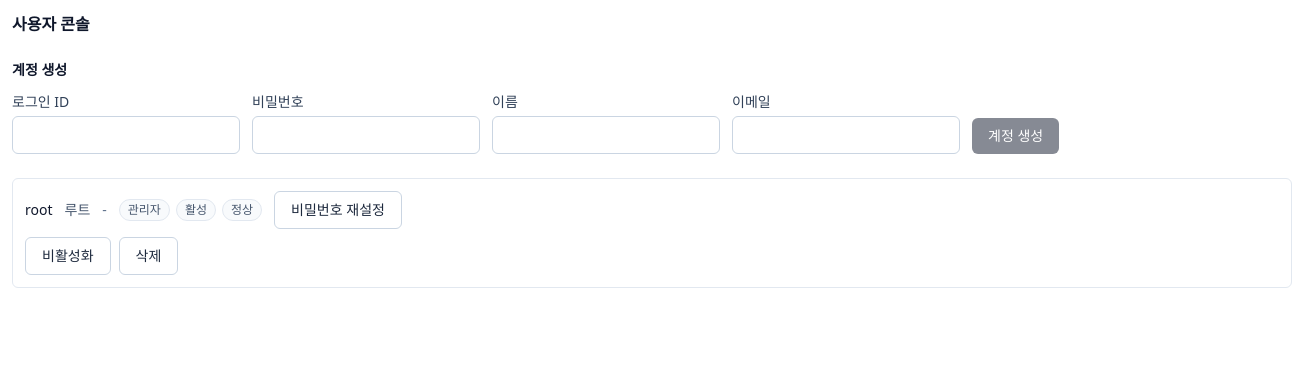
Scenario: AdminUserPanel — 독립 상태 토글·단일 admin 잠금(Req 5.3·5.5) › 단일 admin 비활성화 409 는 안내 문구를 표시하고 목록 상태를 되돌린다 (Req 5.5)
Expected: the text "root" is shown, [25,200,52,220]
What coordinates should you click on to do the following:
click the button with aria-label "root 비활성화"
I would click on:
 (68, 256)
Its box is [25,237,110,275].
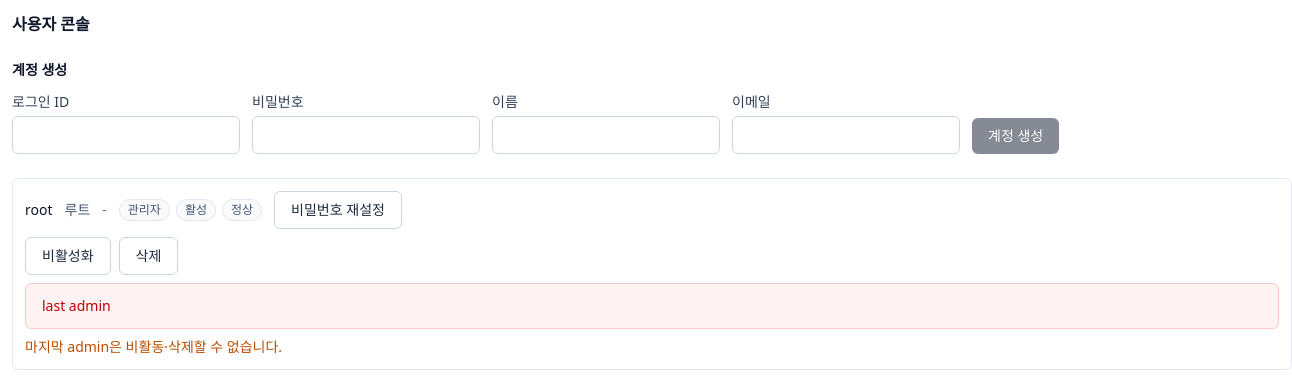
Now the text "마지막 admin은 비활동·삭제할 수 없습니다." is shown, box [25,337,282,356]
